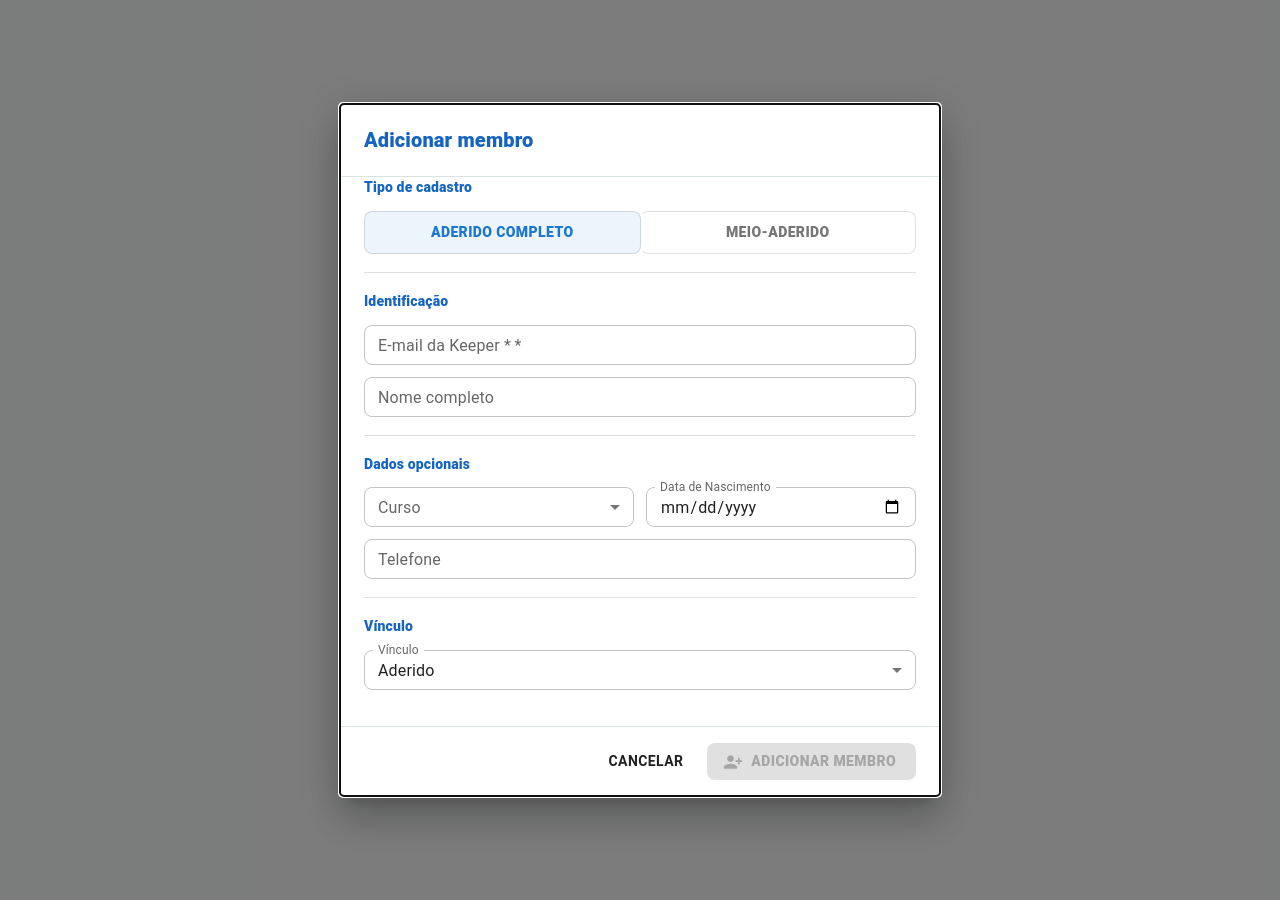
Componente <ModalAdicionarAderido /> › Deve expandir os cargos ao selecionar vínculo de Comissão
Press the mouse on the dropdown named "Vínculo" at (406, 670), box [378, 661, 434, 680]
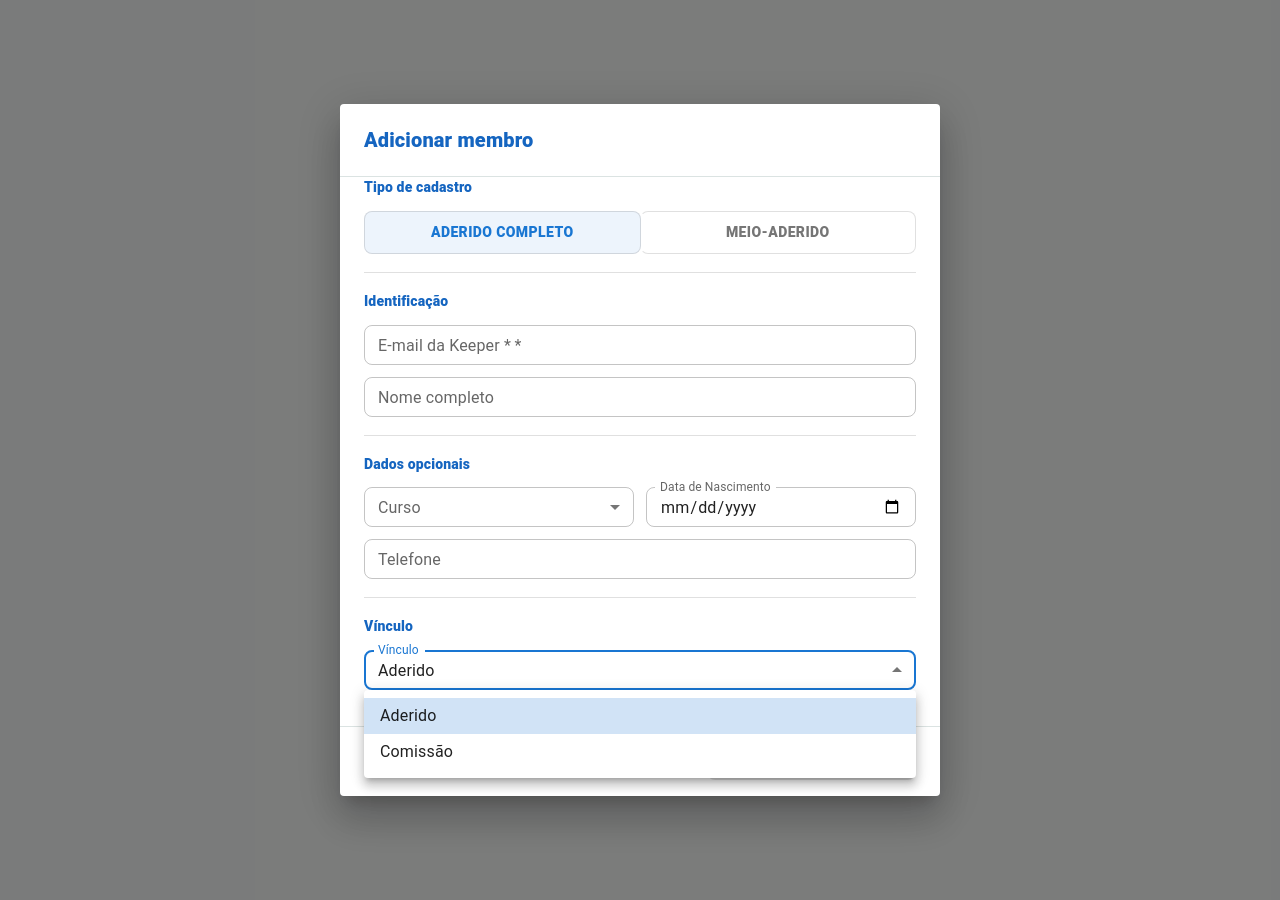
Click the option "Comissão" at (416, 752), box [380, 742, 453, 761]
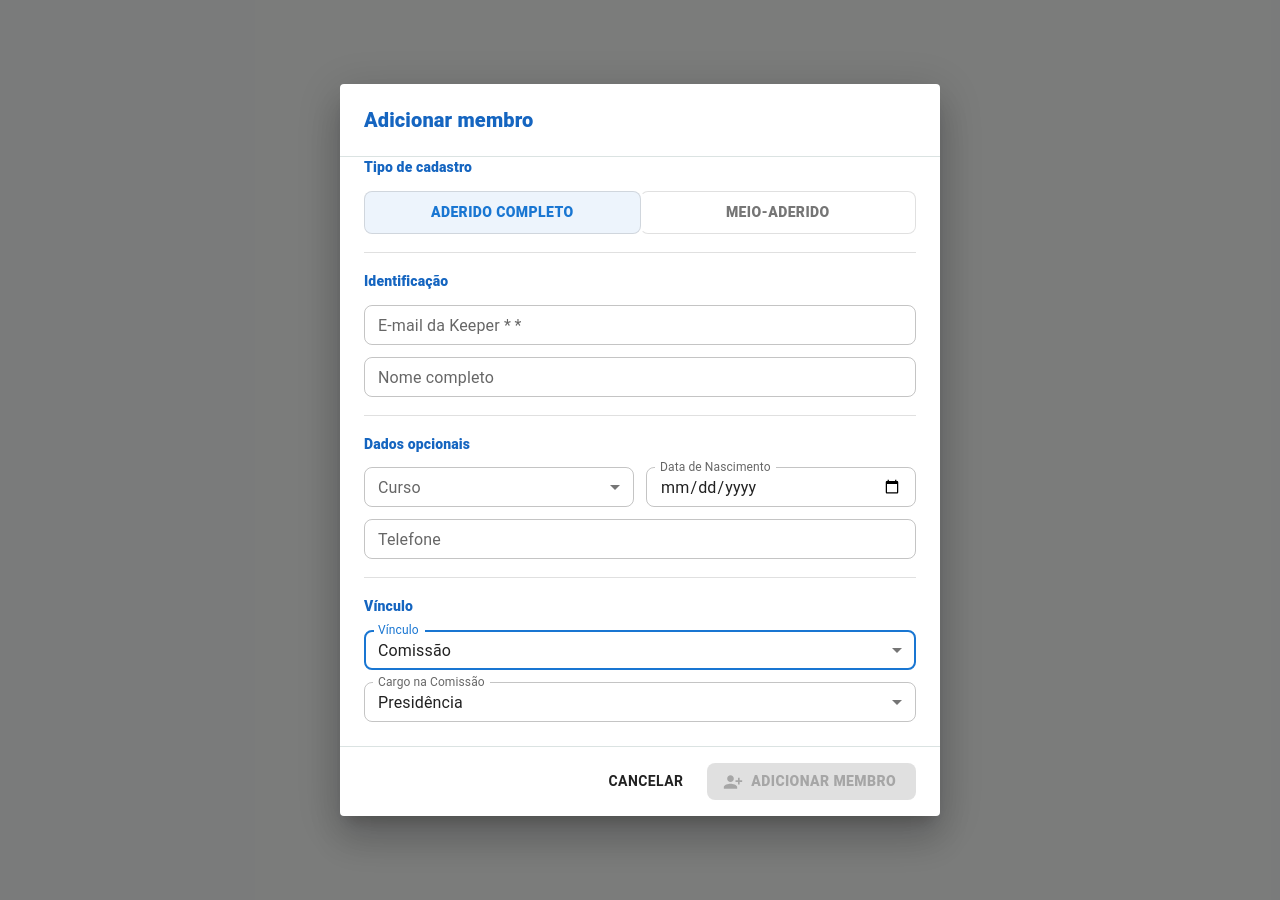
Expected: the element with test id "area-comissao" is shown, [364, 682, 916, 722]
